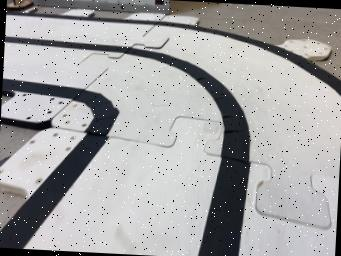street: (0, 12, 341, 256), (0, 12, 341, 256), (0, 12, 341, 256)
